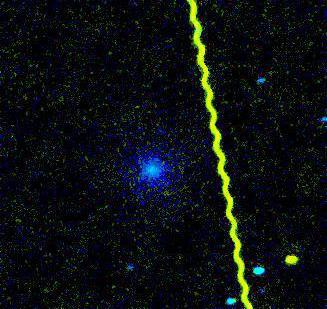star: (276, 246, 306, 276)
